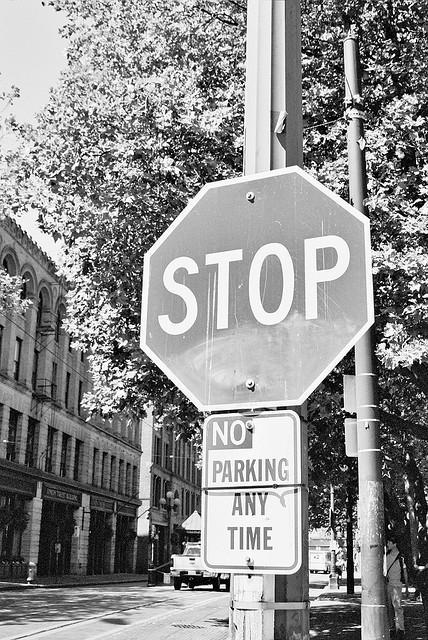truck: (170, 542, 233, 592), (308, 550, 332, 574)
